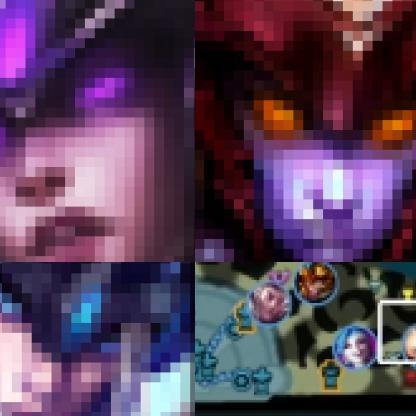Jarvan IV: (294, 262, 339, 305)
Jinx: (332, 327, 377, 369)
Lux: (403, 322, 415, 370)
Rakan: (249, 282, 291, 327)
Sejuani: (0, 262, 194, 415)
Shyvana: (195, 0, 415, 261)
Syndra: (0, 0, 194, 261)
